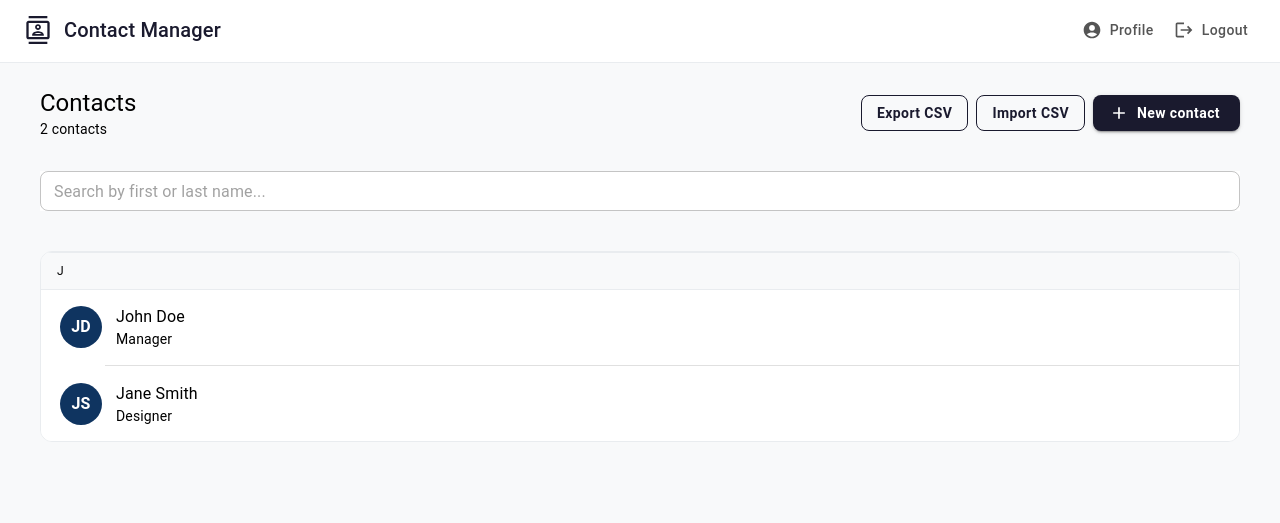
Contacts Page › shows error when export fails
expect the text "John Doe" is shown: met, box [116, 307, 185, 326]
What coordinates should you click on to do the following:
click the button "Export CSV"
I would click on:
 (915, 113)
Its box is [861, 95, 968, 131].
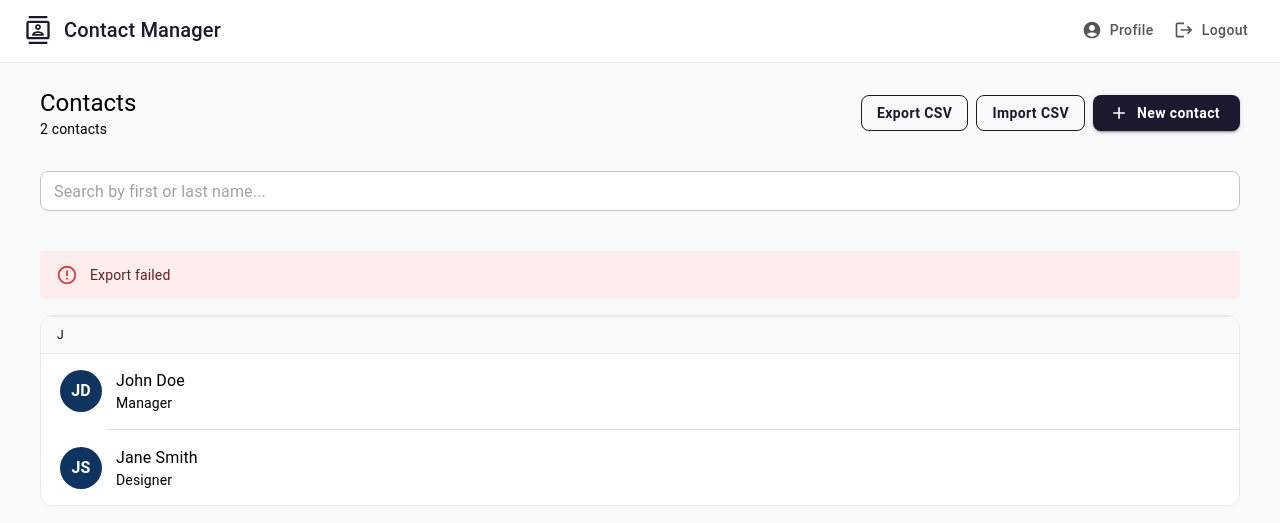
expect the text "Export failed" is shown: met, box [90, 267, 170, 283]
